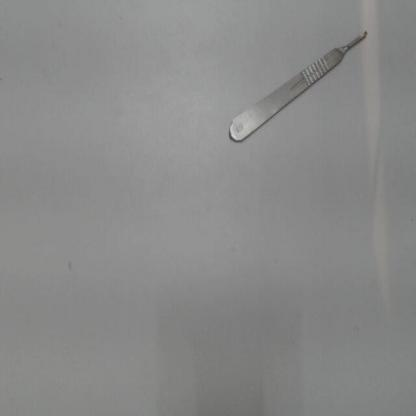No.3 BP Handle: (222, 16, 375, 158)
